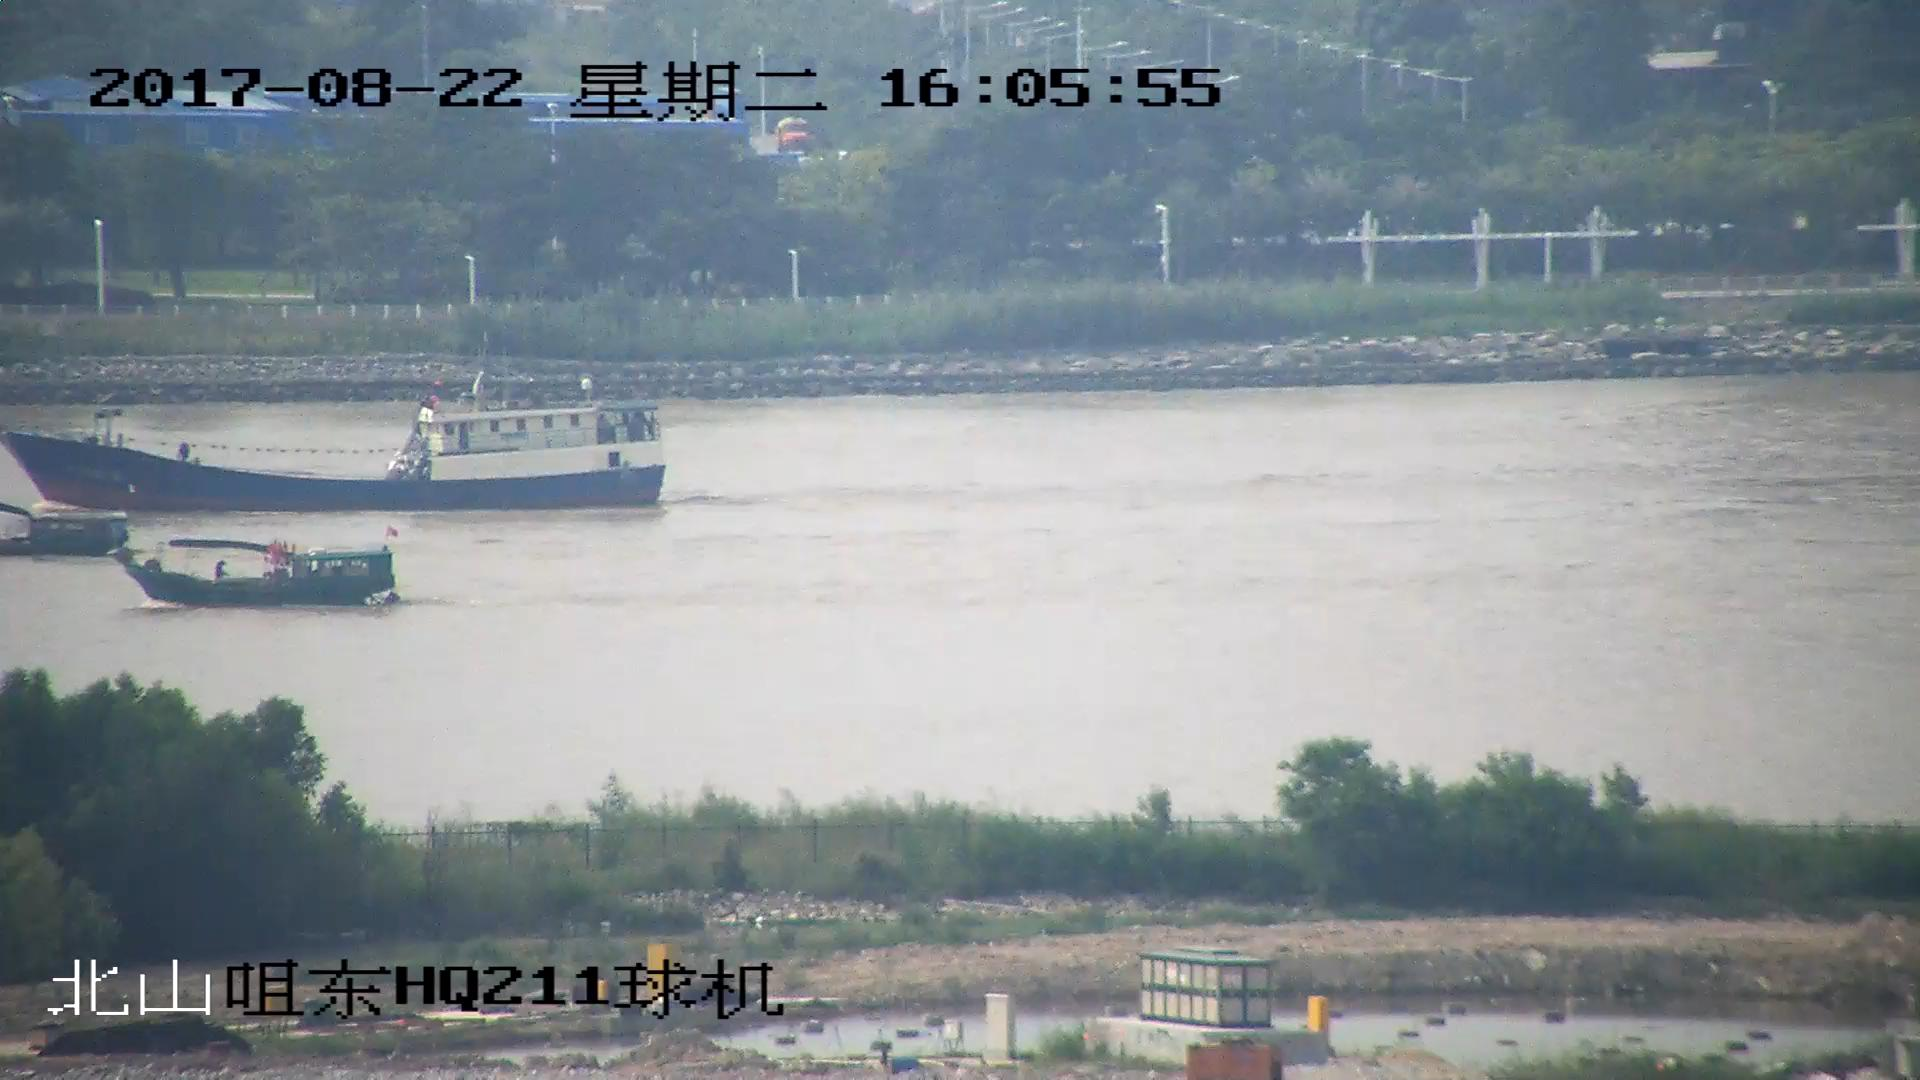fishing boat: (1, 371, 672, 518), (119, 531, 401, 608), (1, 505, 127, 558)
